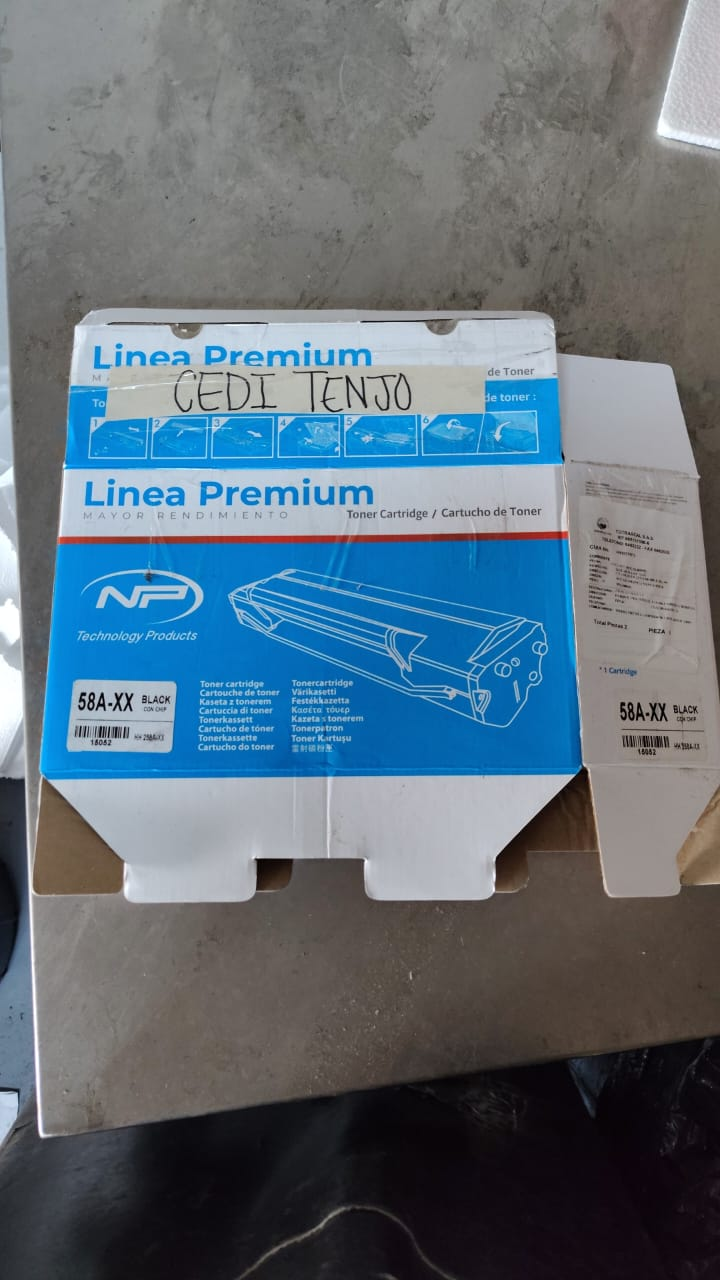Carton: (36, 307, 720, 900)
